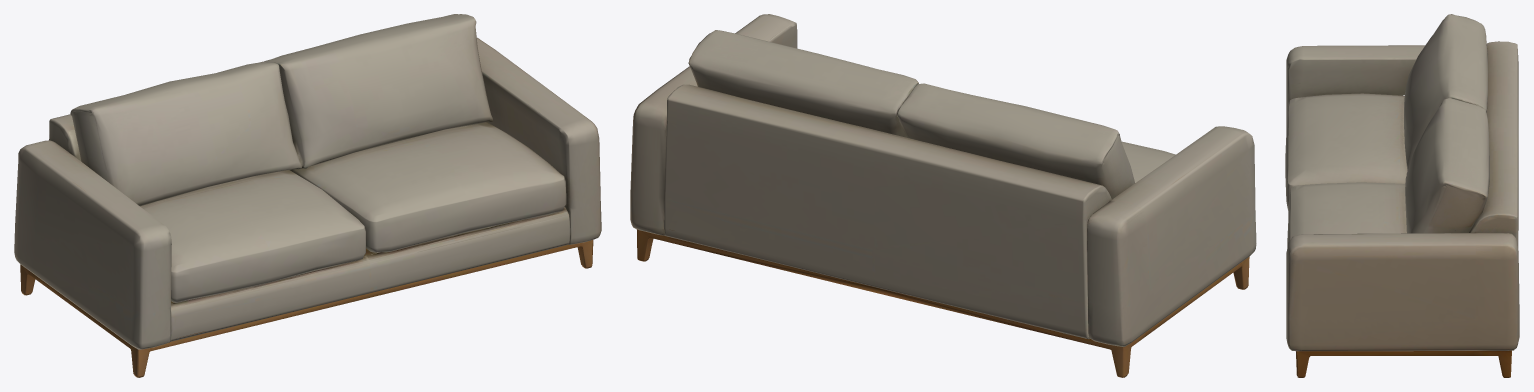
The model's file is Abstract_Geometric_Wall_Art.glb.
The picture shows the model from 3 angles, left to right: view 1: azimuth 30°, elevation 25°; view 2: azimuth 150°, elevation 25°; view 3: azimuth 270°, elevation 25°; orthographic projection. The views are drawn at different scales.
Visible parts, largest first — view 1: Abstract_Geometric_Wall_Art; view 2: Abstract_Geometric_Wall_Art; view 3: Abstract_Geometric_Wall_Art.
Boxes of the visible parts, x1,y1,x2,y2 form: Abstract_Geometric_Wall_Art: (14,14,601,377); Abstract_Geometric_Wall_Art: (630,14,1256,377); Abstract_Geometric_Wall_Art: (1285,14,1519,377).
Size of the model in its own units: 0.998 by 0.4082 by 0.4785.
Materials: 1 (1 with a texture image).
